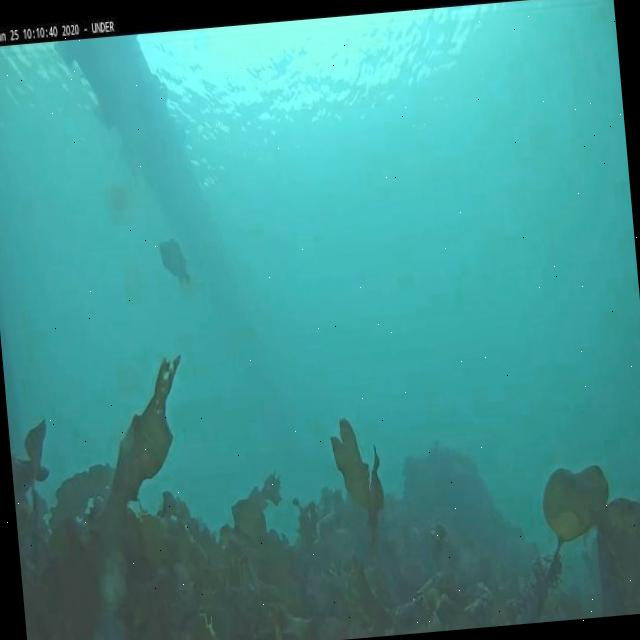fish: (158, 237, 195, 289)
